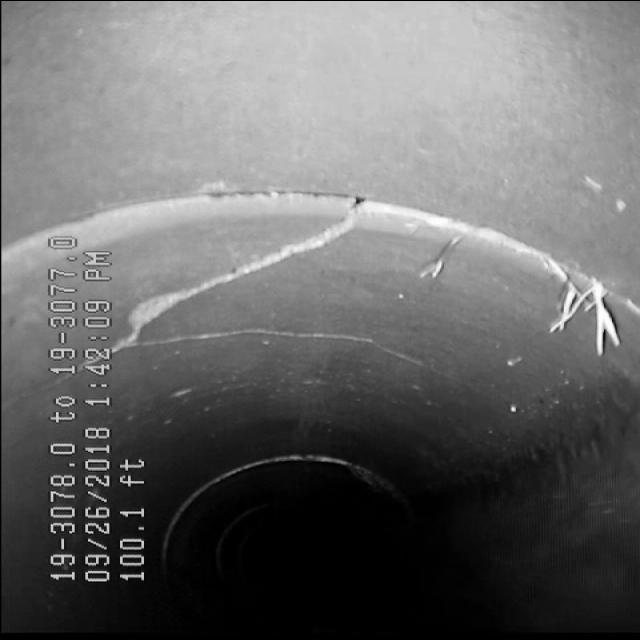Crack: (124, 218, 359, 324)
